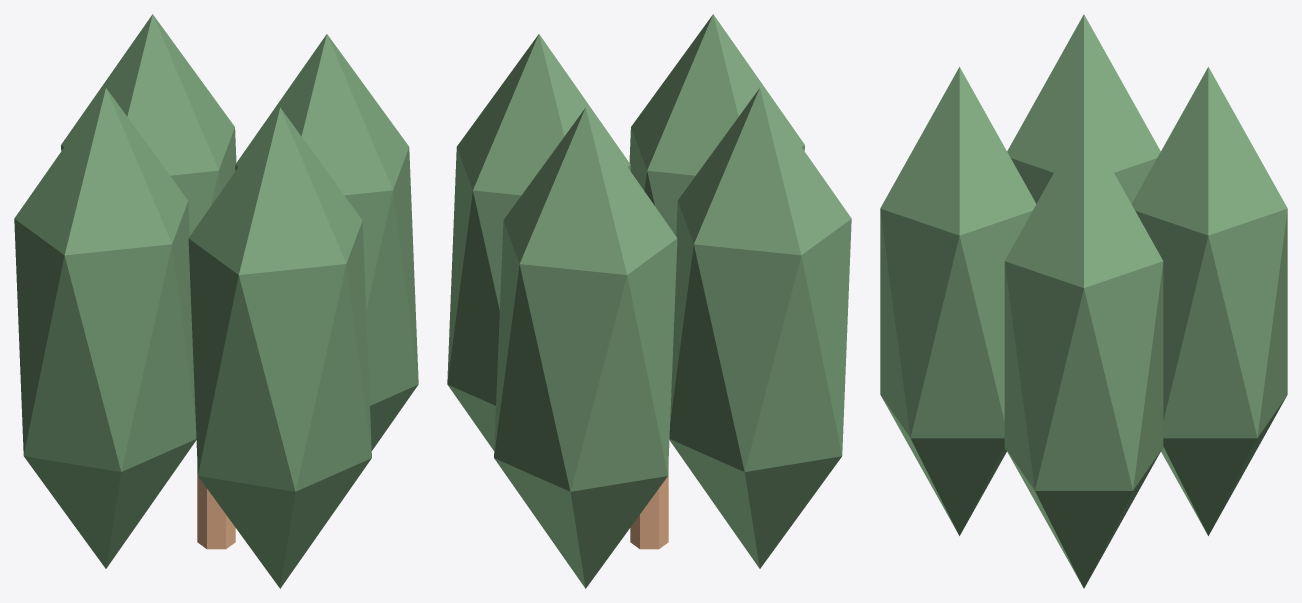
3 renders of one model, left to right at view 1: azimuth 30°, elevation 25°; view 2: azimuth 150°, elevation 25°; view 3: azimuth 270°, elevation 25°, orthographic. The views are drawn at different scales.
Visible parts, largest first — view 1: Leaf.003, Leaf.002, Leaf, Leaf.001, Stem; view 2: Leaf.001, Leaf.002, Leaf, Leaf.003, Stem; view 3: Leaf, Leaf.001, Leaf.003, Leaf.002.
Part boxes in pixels (x1,y1,x2,y2): Leaf.003: (188, 107, 371, 588); Leaf.002: (14, 88, 196, 568); Leaf: (235, 34, 418, 450); Leaf.001: (61, 14, 236, 235); Stem: (197, 465, 235, 549); Leaf.001: (494, 107, 677, 588); Leaf.002: (669, 88, 851, 568); Leaf: (447, 34, 630, 450); Leaf.003: (629, 14, 804, 235); Stem: (630, 465, 668, 549); Leaf: (1004, 119, 1163, 588); Leaf.001: (1131, 67, 1287, 535); Leaf.003: (880, 67, 1036, 535); Leaf.002: (1007, 14, 1160, 203).
Size of the model in its own units: 41.89 by 50 by 39.31.
